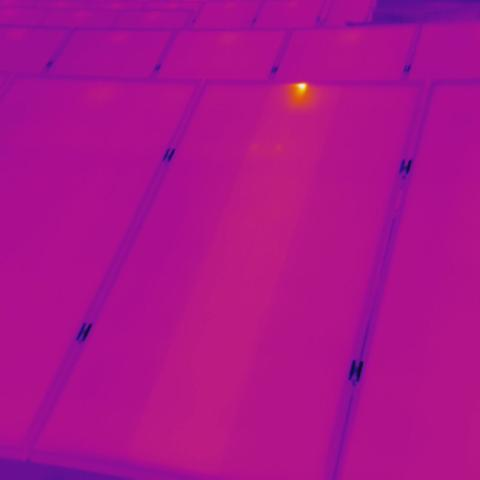fault: (290, 80, 319, 99)
